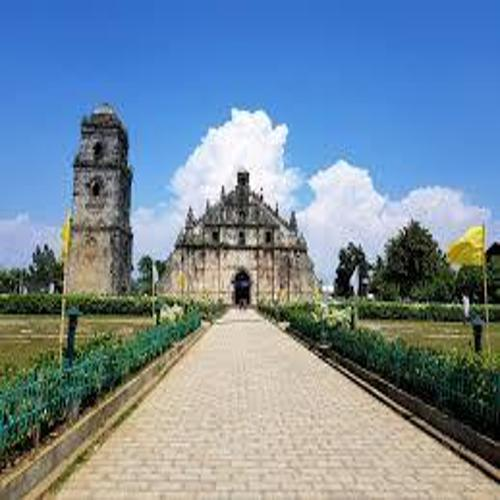Paoay Church: (58, 87, 327, 310)
